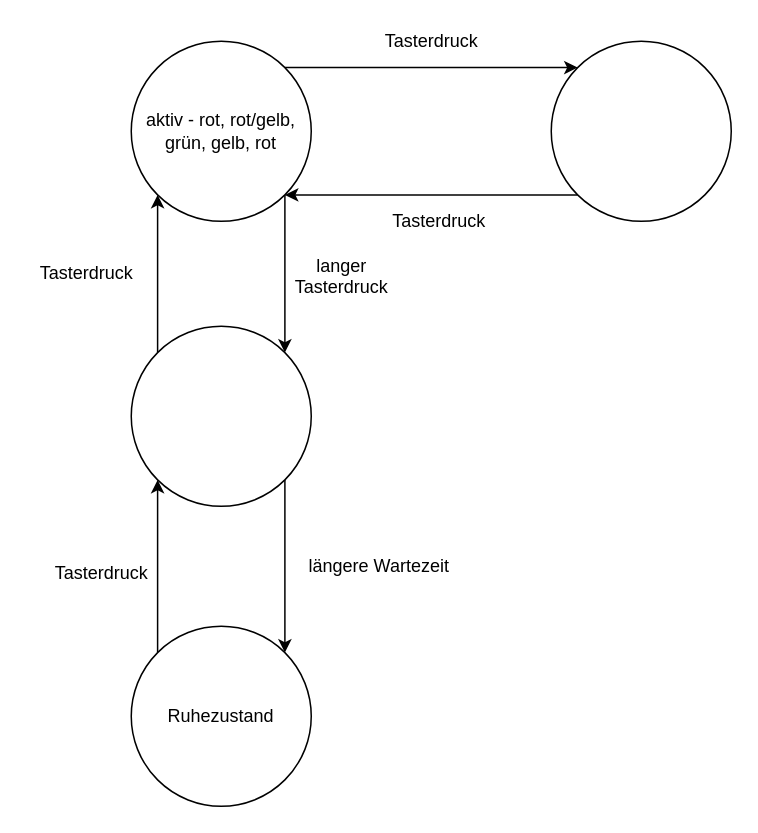
The diagram is 758 pixels wide and 833 high, and some of its shapes have lost their labels. The centre of each missing label's shape, as x and y in pixels:
"gelb blinken" belongs at pixel 220 415.
"stop" belongs at pixel 640 130.
